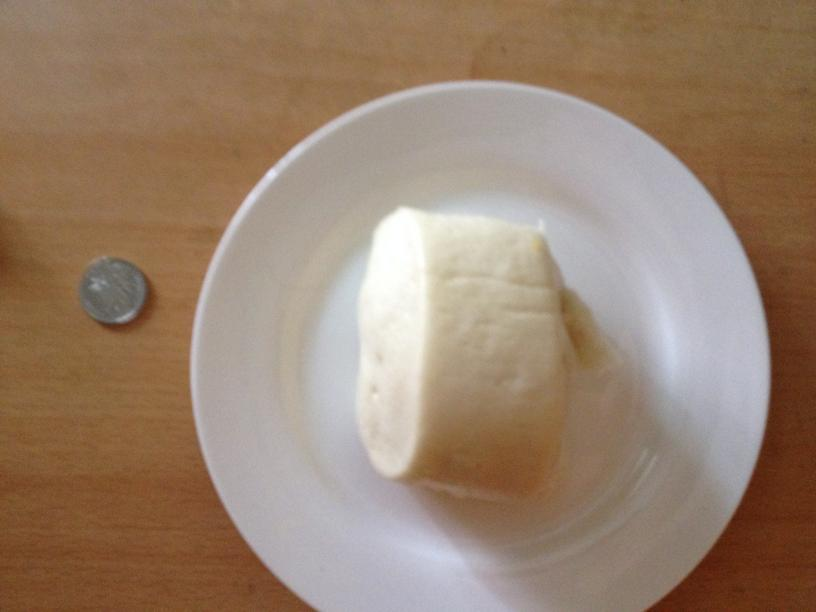bun: (357, 204, 580, 504)
coin: (75, 254, 148, 324)
